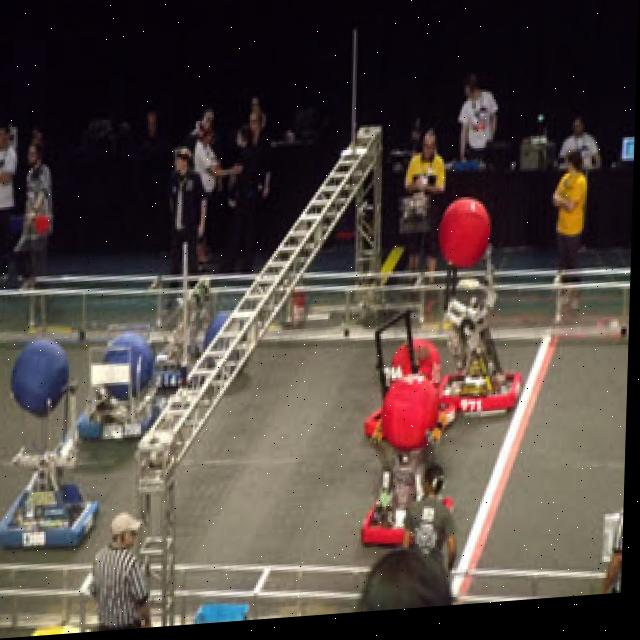robot: (0, 380, 103, 557), (433, 265, 527, 430), (365, 311, 468, 458), (362, 421, 457, 562), (141, 279, 245, 397), (80, 326, 172, 446)
